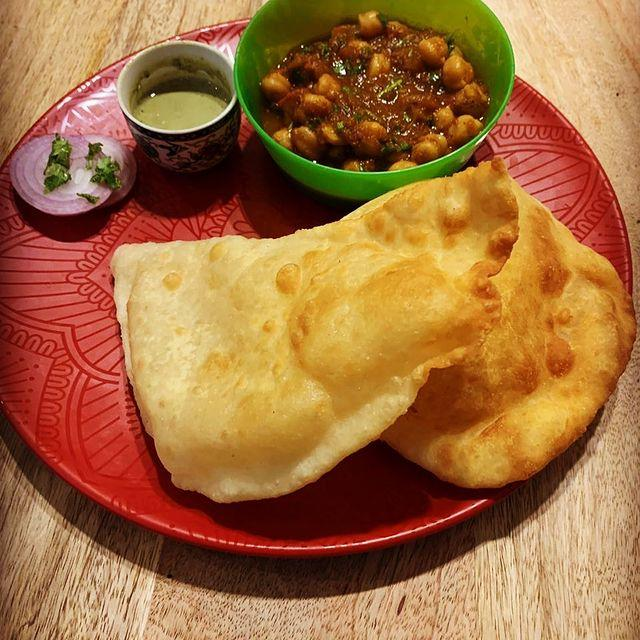Chole: (260, 12, 483, 162)
